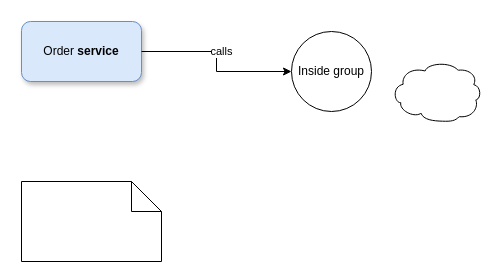
Image size: 499x279. Some labels were removed from this diagram. Here are the shapes that lost their labels. From the top down, the centre of each, then its label:
point 436,91: Cloud
point 91,221: A note on another layer
